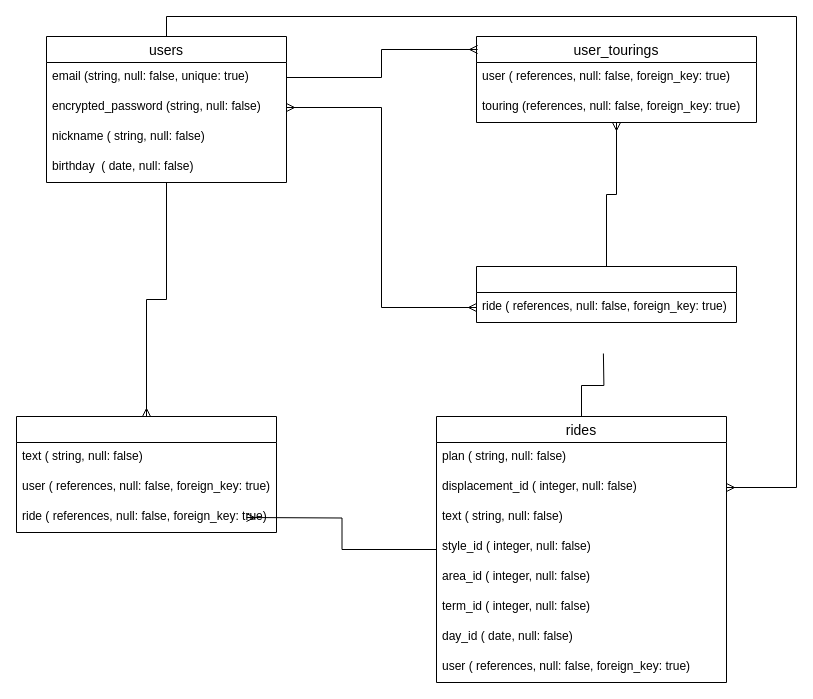
Some shapes in this 813 by 699 pixel diagram are drawn without their labels. Each missing label, with the box of its shape:
comments: (16, 416, 276, 532)
tourings: (476, 266, 736, 322)
